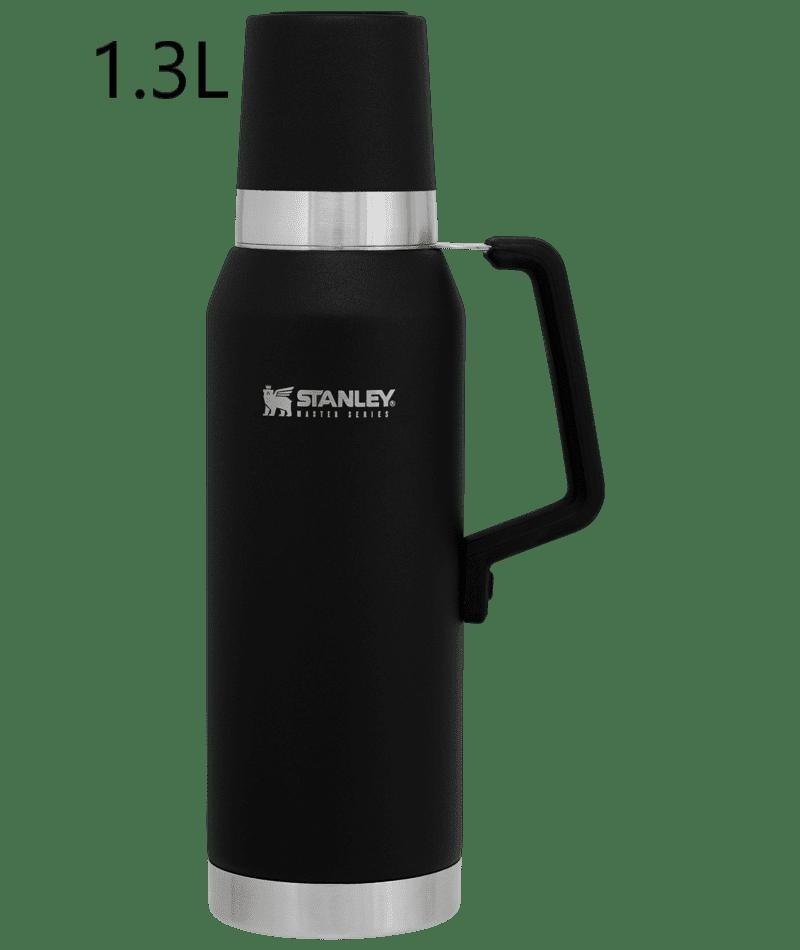gym bottle: (197, 2, 475, 948)
